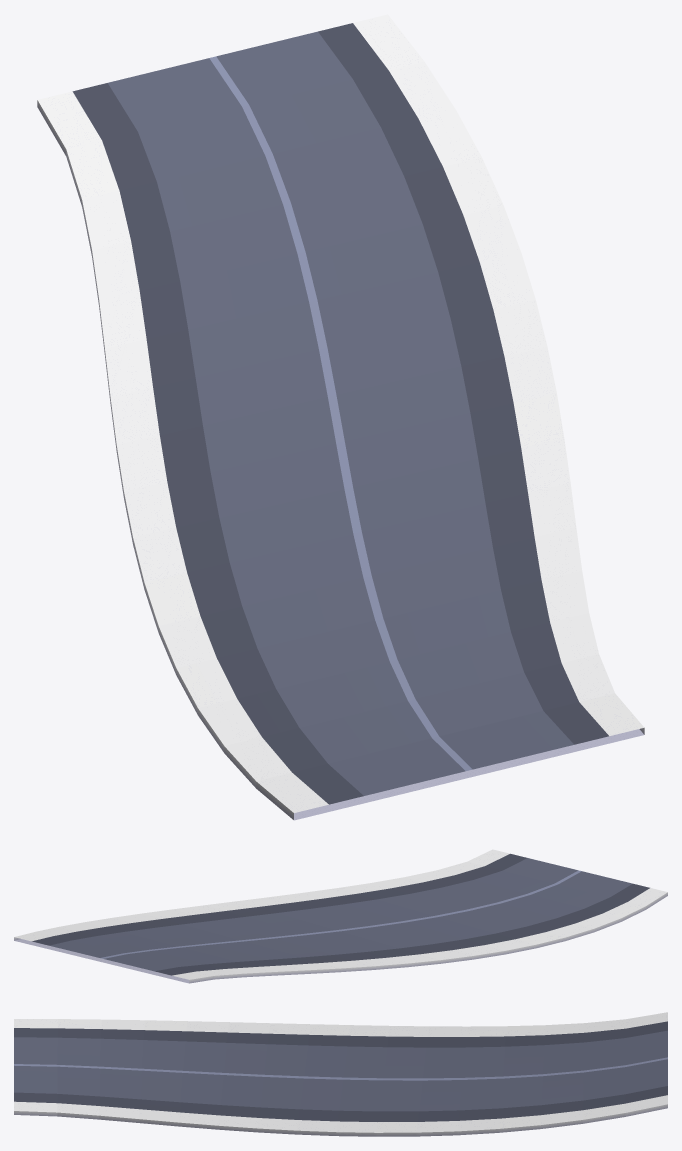
File: road-Chicane-Flat-BiSlopeUp-Up2-Right1-Size3.glb
The picture shows the model from 3 angles, top to bottom: view 1: azimuth 30°, elevation 25°; view 2: azimuth 150°, elevation 25°; view 3: azimuth 270°, elevation 25°; orthographic projection. The views are drawn at different scales.
Parts seen in each view (by area): view 1: road-Chicane-Flat-BiSlopeUp-Up2-Right1-Size3; view 2: road-Chicane-Flat-BiSlopeUp-Up2-Right1-Size3; view 3: road-Chicane-Flat-BiSlopeUp-Up2-Right1-Size3.
Boxes of the visible parts, x1=… form: road-Chicane-Flat-BiSlopeUp-Up2-Right1-Size3: x1=37, y1=14, x2=644, y2=820; road-Chicane-Flat-BiSlopeUp-Up2-Right1-Size3: x1=14, y1=849, x2=667, y2=983; road-Chicane-Flat-BiSlopeUp-Up2-Right1-Size3: x1=14, y1=1012, x2=667, y2=1136.
Bounding box in the file's own units: 2 × 0.52 × 3.
1 material, 1 textured.
